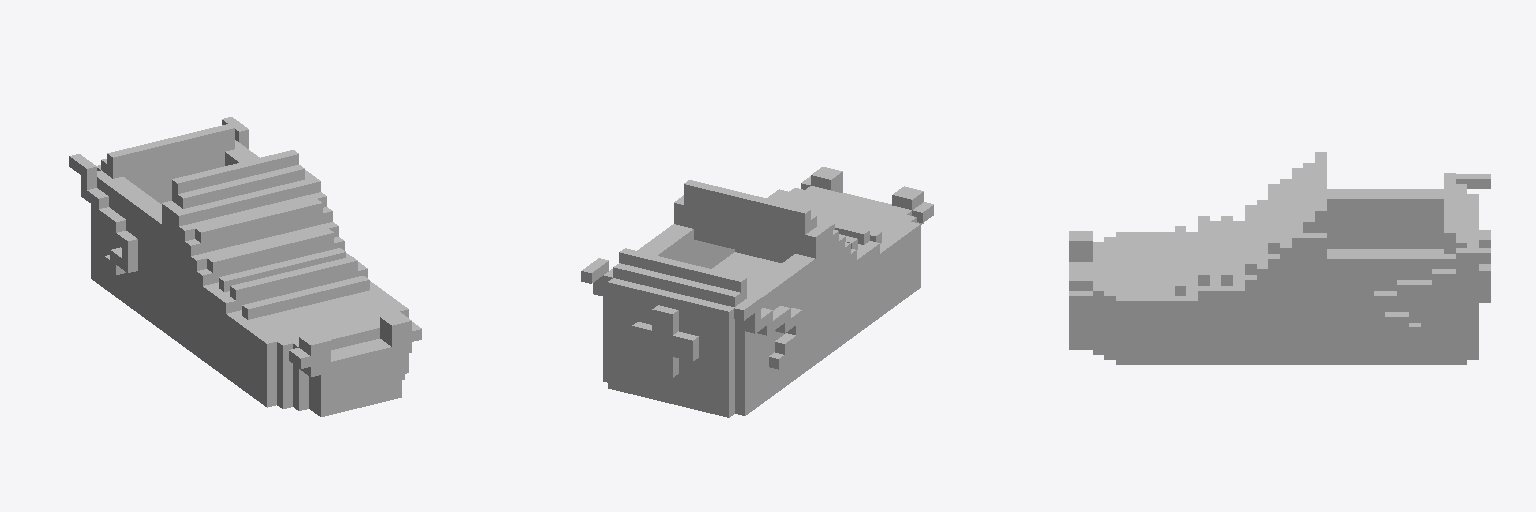
The model's file is Zapatos1.obj.
3 renders of one model, left to right at view 1: azimuth 30°, elevation 25°; view 2: azimuth 150°, elevation 25°; view 3: azimuth 270°, elevation 25°, orthographic.
Parts seen in each view (by area): view 1: object 1; view 2: object 1; view 3: object 1.
Part boxes in pixels (bbox=[...]): object 1: bbox=[69, 117, 421, 416]; object 1: bbox=[581, 167, 933, 417]; object 1: bbox=[1069, 152, 1490, 364].
Bounding box in the file's own units: 1.6 × 1.4 × 3.6.